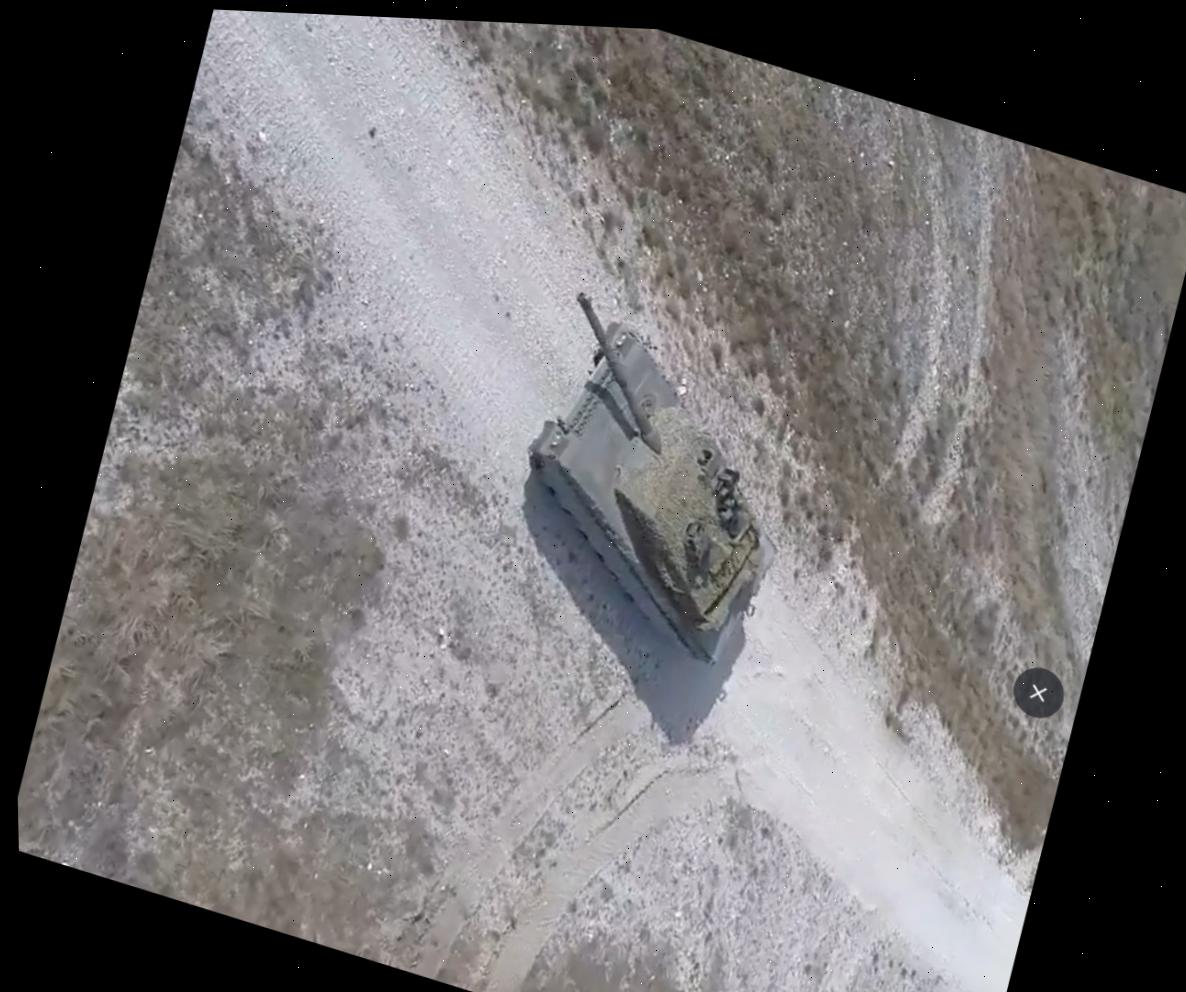tank: (481, 277, 829, 683)
